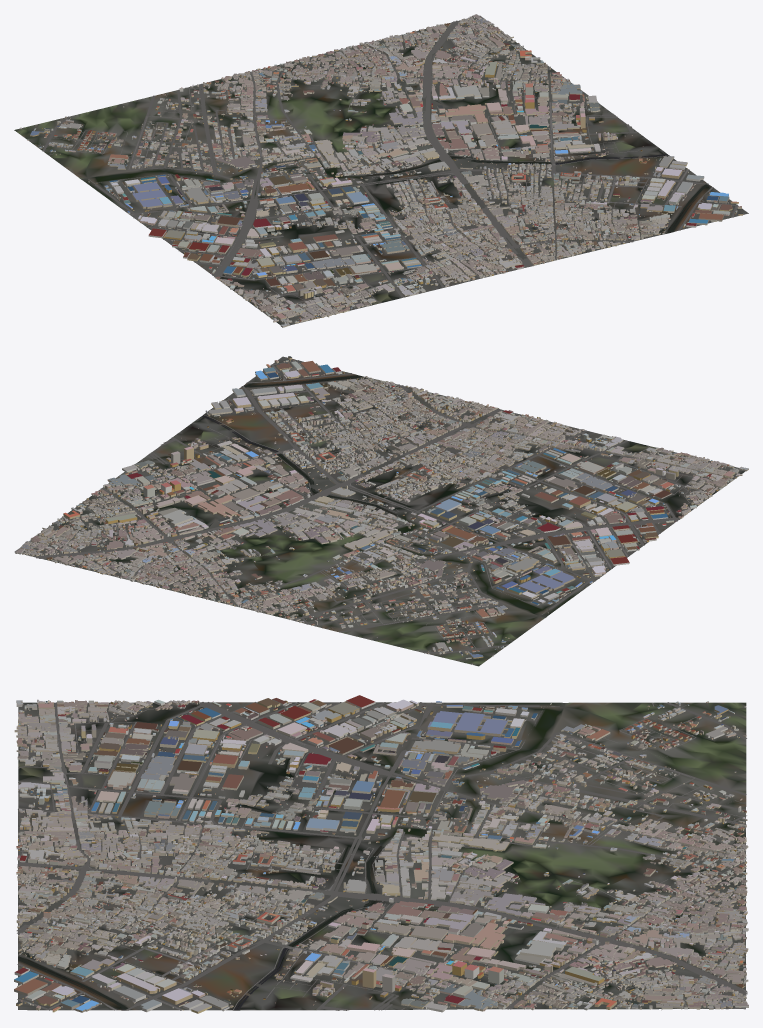
3 views of the same model, one above another, from view 1: azimuth 30°, elevation 25°; view 2: azimuth 150°, elevation 25°; view 3: azimuth 270°, elevation 25° (orthographic). The views are drawn at different scales.
Visible parts, largest first — view 1: buildings, ground, roads, water; view 2: buildings, ground, roads, water; view 3: buildings, ground, roads, water.
Boxes of the visible parts, <box> form: buildings: <box>20,14,743,327</box>; ground: <box>14,18,748,325</box>; roads: <box>38,15,738,318</box>; water: <box>366,154,708,233</box>; buildings: <box>15,356,748,664</box>; ground: <box>22,356,745,666</box>; roads: <box>14,360,743,654</box>; water: <box>201,375,396,515</box>; buildings: <box>14,695,748,1013</box>; ground: <box>18,702,746,1010</box>; roads: <box>16,702,747,1010</box>; water: <box>18,846,383,1010</box>.
Bounding box in the file's own units: 2880 × 73.84 × 2828.
